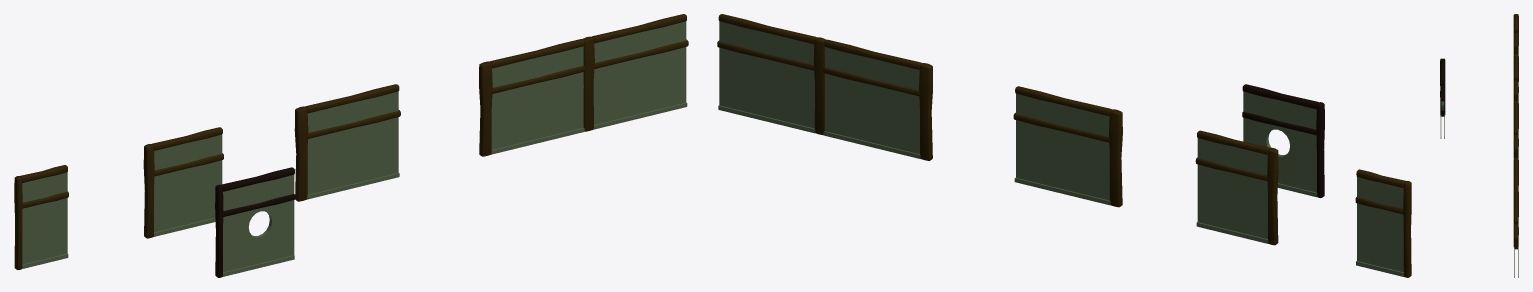
The model's file is Paredes.fbx.
3 renders of one model, left to right at view 1: azimuth 30°, elevation 25°; view 2: azimuth 150°, elevation 25°; view 3: azimuth 270°, elevation 25°, orthographic. The views are drawn at different scales.
Parts seen in each view (by area): view 1: Wall_8x3, Wall_4x3, Wall_3x3, Wall_3x3_Window, Wall_2x3; view 2: Wall_8x3, Wall_4x3, Wall_3x3, Wall_3x3_Window, Wall_2x3; view 3: Wall_8x3, Wall_3x3_Window, Wall_4x3, Wall_3x3, Wall_2x3.
Boxes of the visible parts, x1,y1,x2,y2 form: Wall_8x3: [479, 14, 688, 156]; Wall_4x3: [294, 84, 400, 201]; Wall_3x3: [143, 127, 223, 238]; Wall_3x3_Window: [215, 167, 295, 277]; Wall_2x3: [14, 165, 68, 269]; Wall_8x3: [717, 14, 932, 160]; Wall_4x3: [1013, 86, 1122, 207]; Wall_3x3: [1195, 130, 1278, 245]; Wall_3x3_Window: [1242, 84, 1324, 197]; Wall_2x3: [1355, 169, 1411, 277]; Wall_8x3: [1513, 157, 1518, 277]; Wall_3x3_Window: [1440, 58, 1445, 138]; Wall_4x3: [1513, 100, 1518, 158]; Wall_3x3: [1513, 54, 1518, 101]; Wall_2x3: [1513, 14, 1518, 54].
Bounding box in the file's own units: 2594 × 340 × 418.
